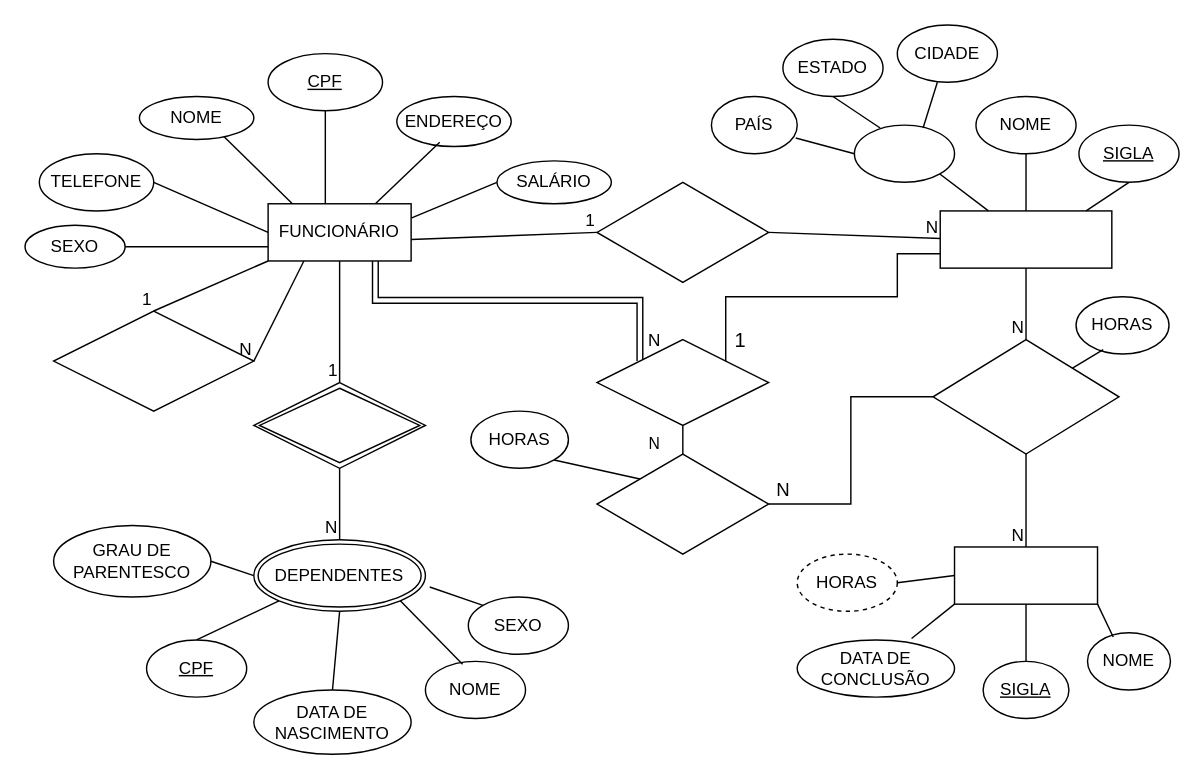
This 1204x779 diagram has some shape labels left out. The shapes that lost their labels are listed below. From the top down, each one's box as (x1, y1, x2, y2) in pixels, then its label:
(853, 124, 955, 182): LOCAIS
(596, 181, 769, 282): GERENCIAR
(939, 209, 1112, 268): DEPARTAMENTO
(52, 310, 254, 411): SUPERVISIONAR
(596, 338, 769, 425): ALOCAR
(932, 338, 1119, 454): DESENVOLVER
(252, 381, 425, 468): POSSUI
(596, 453, 769, 554): TRABALHAR
(953, 546, 1098, 604): PROJETOS
